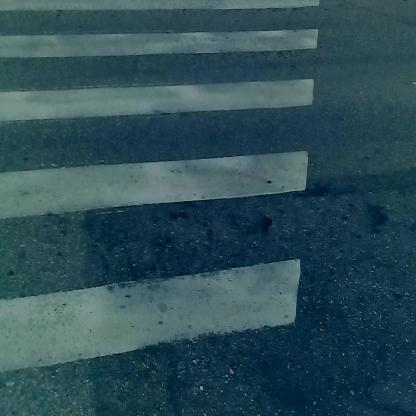crosswalk: (3, 1, 307, 398)
